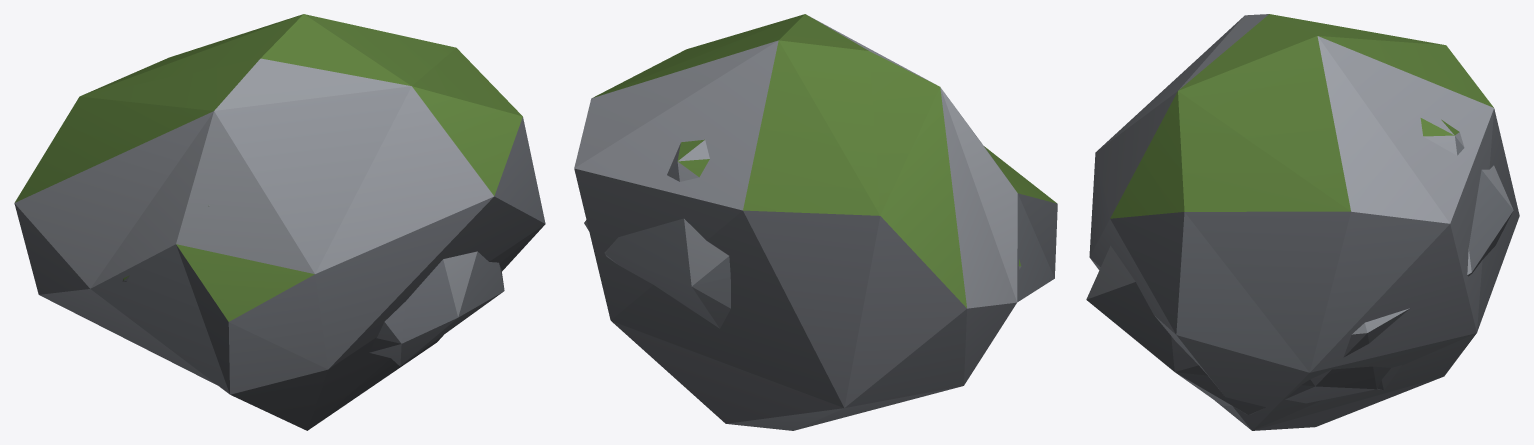
Rendered from boulder.fbx.
3 renders of one model, left to right at view 1: azimuth 30°, elevation 25°; view 2: azimuth 150°, elevation 25°; view 3: azimuth 270°, elevation 25°, orthographic. The views are drawn at different scales.
Parts seen in each view (by area): view 1: boulder_2, boulder_1; view 2: boulder_2, boulder_1; view 3: boulder_2, boulder_1.
Part boxes in pixels (<box>): boulder_2: <box>14,14,545,430</box>; boulder_1: <box>122,206,504,365</box>; boulder_2: <box>574,14,1057,430</box>; boulder_1: <box>584,139,1021,328</box>; boulder_2: <box>1089,14,1519,430</box>; boulder_1: <box>1086,117,1513,414</box>.
Size of the model in its own units: 2.64 by 2.29 by 2.26.
